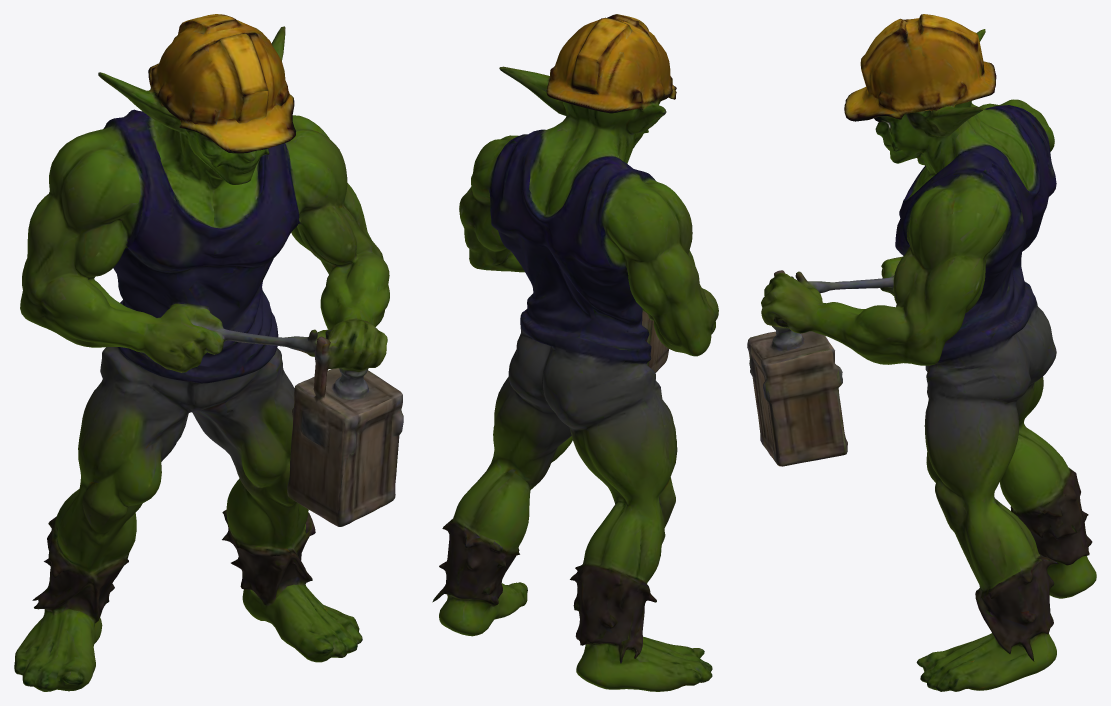
The model's file is grunk_dan.glb.
The picture shows the model from 3 angles, left to right: view 1: azimuth 30°, elevation 25°; view 2: azimuth 150°, elevation 25°; view 3: azimuth 270°, elevation 25°; orthographic projection. The views are drawn at different scales.
Bounding box in the file's own units: 0.4649 × 0.9576 × 0.4954.
Materials: 1 (1 with a texture image).
